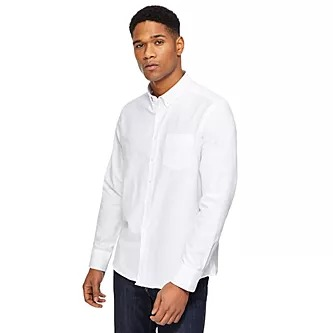S_shirt: (88, 80, 242, 293)
